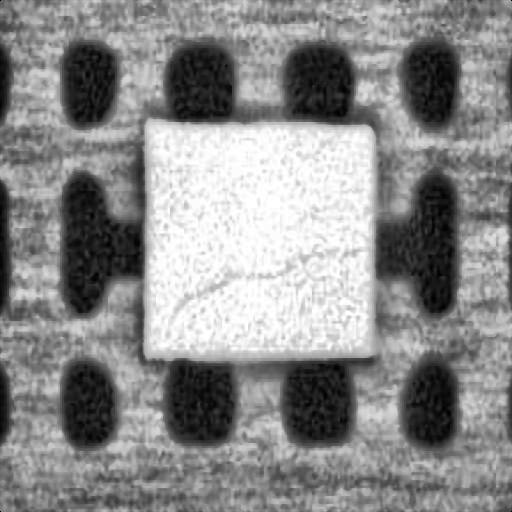DIE_CRACK: (165, 239, 363, 321)
